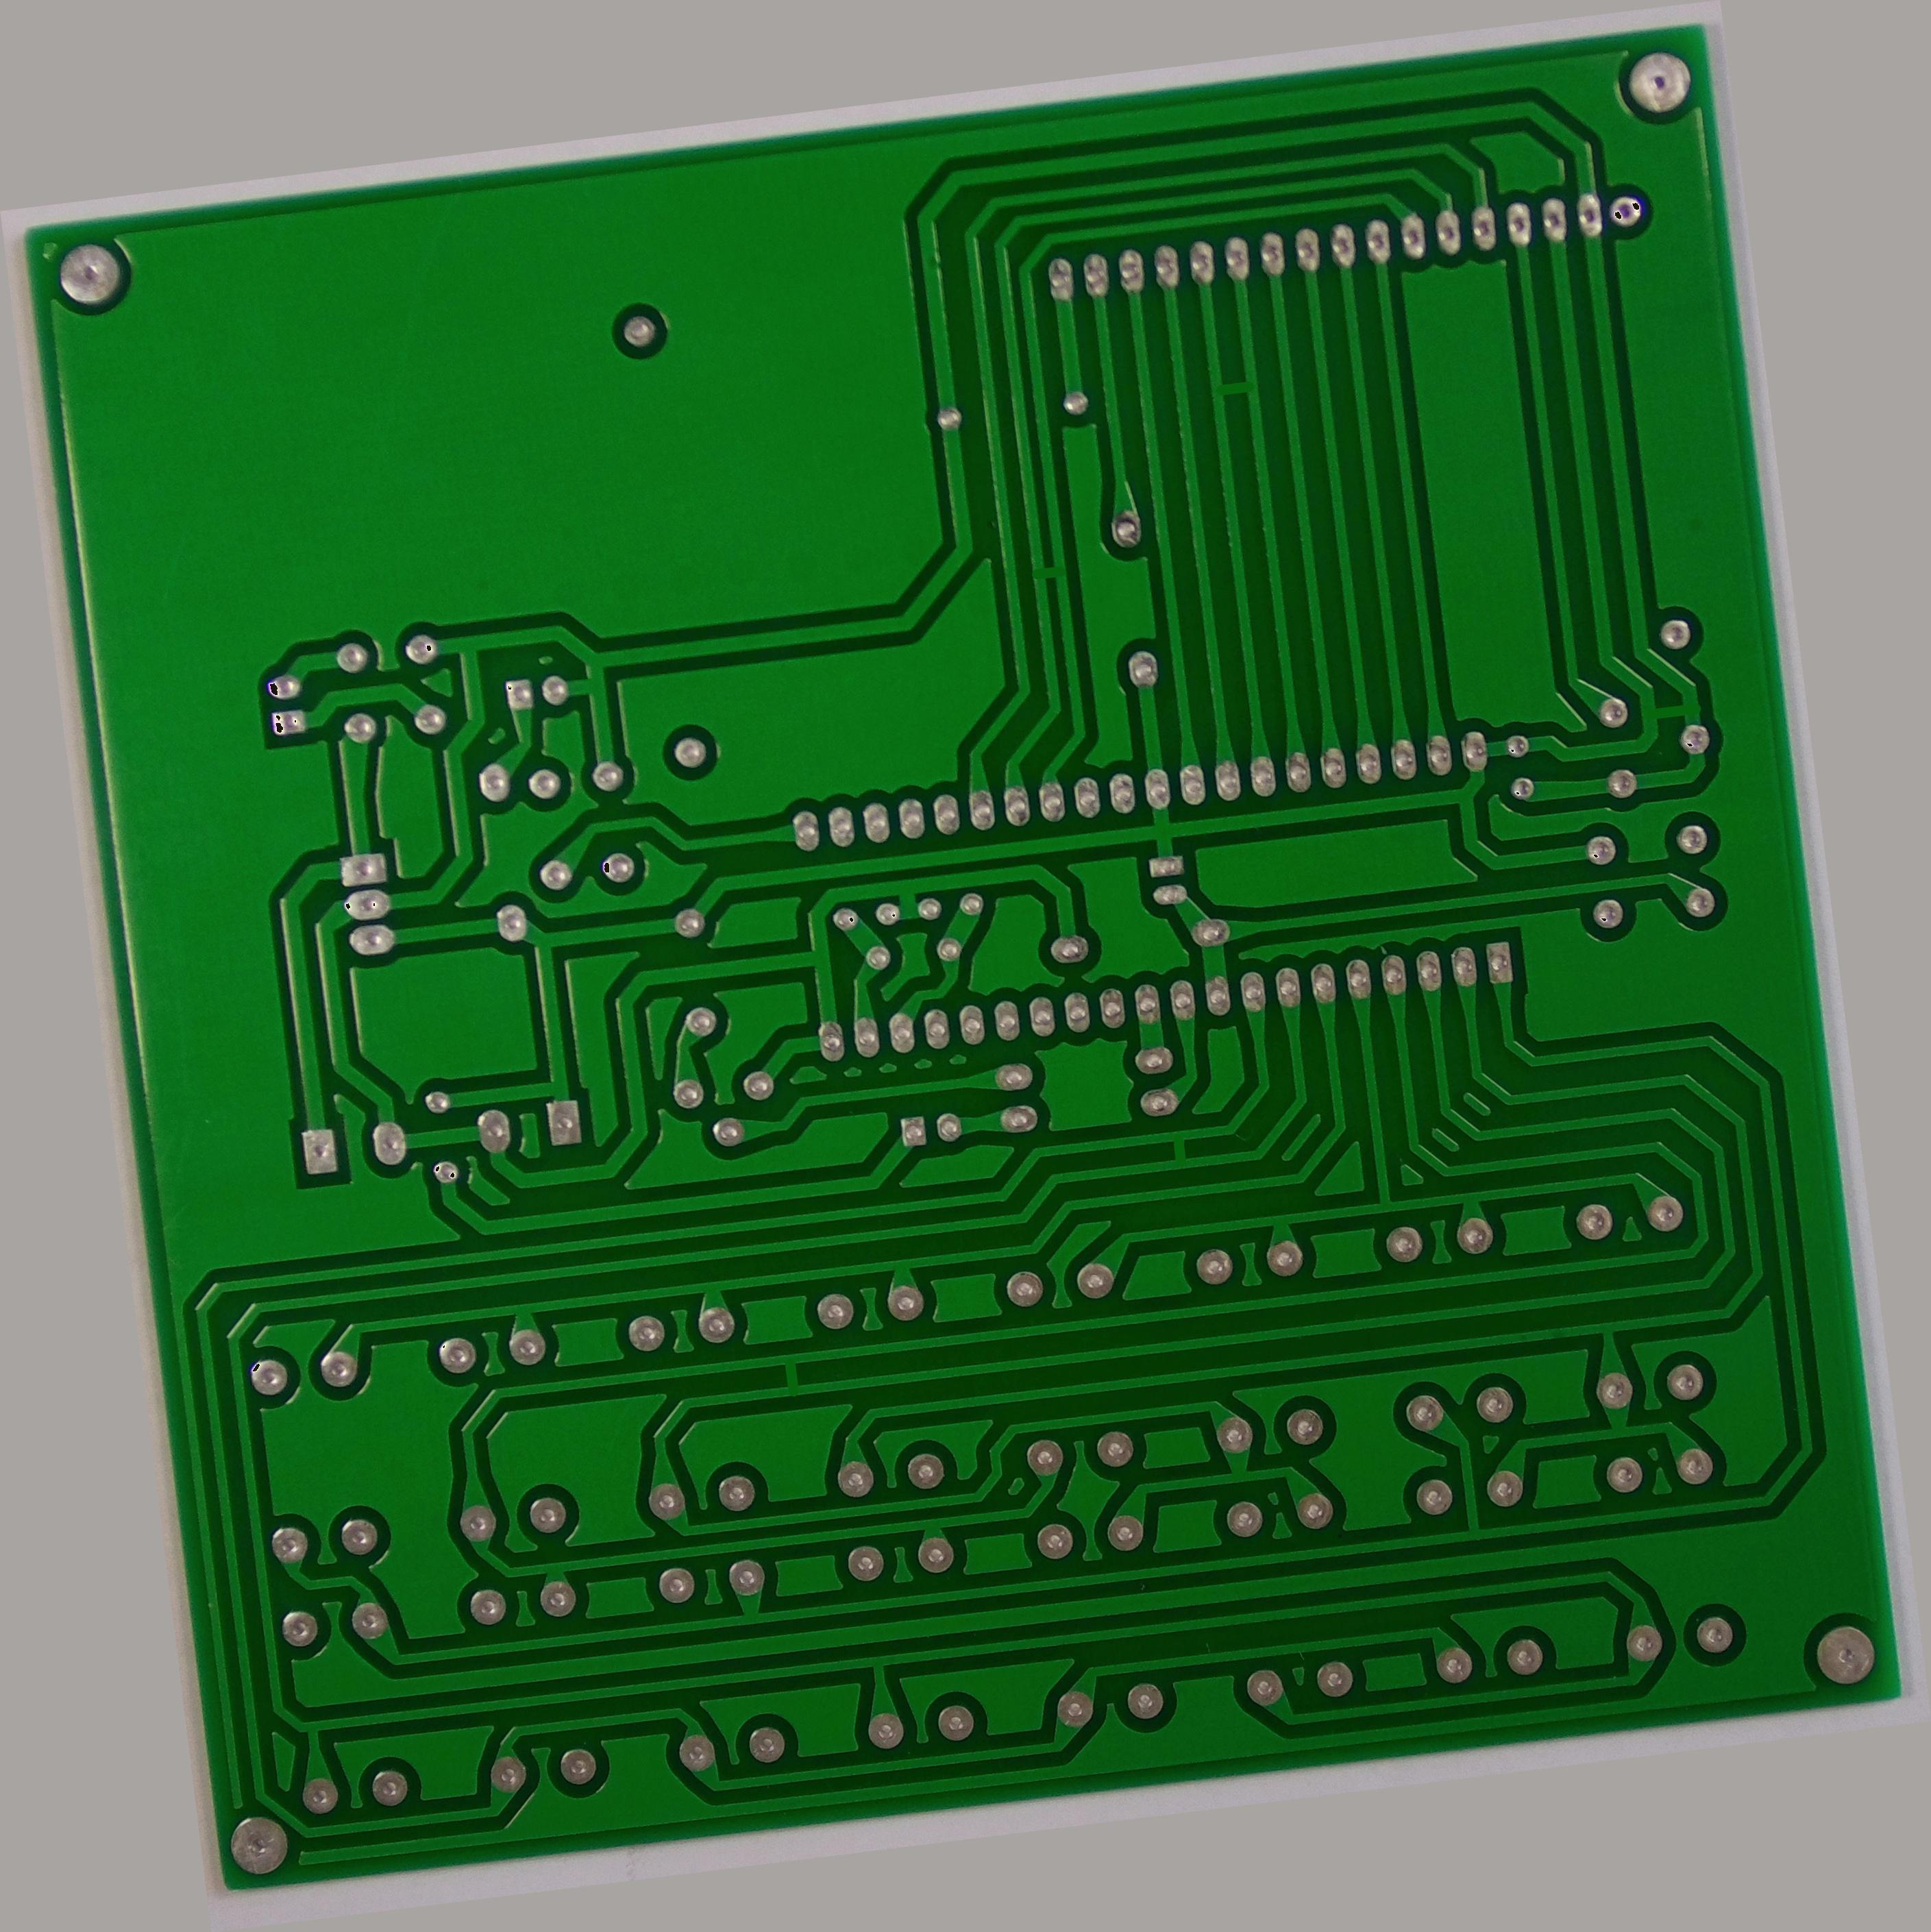short: (1627, 678, 1712, 738), (1197, 363, 1263, 407), (1155, 1116, 1201, 1175), (1022, 550, 1075, 596), (767, 1345, 806, 1403)
